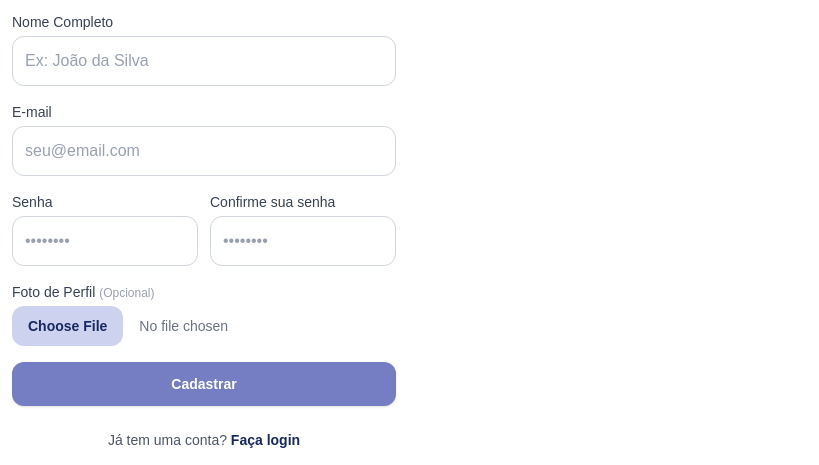
Test: [US01] RegisterAuth › Deve fechar o Toast de erro ao clicar no botão de fechar
The width and height of the screenshot is (819, 465).
// Gera erro de senhas divergentes para exibir o toast imediatamente no cliente
Type "Carlos Souza" into the field labelled "Nome Completo" at (204, 61), box [12,36,396,86]
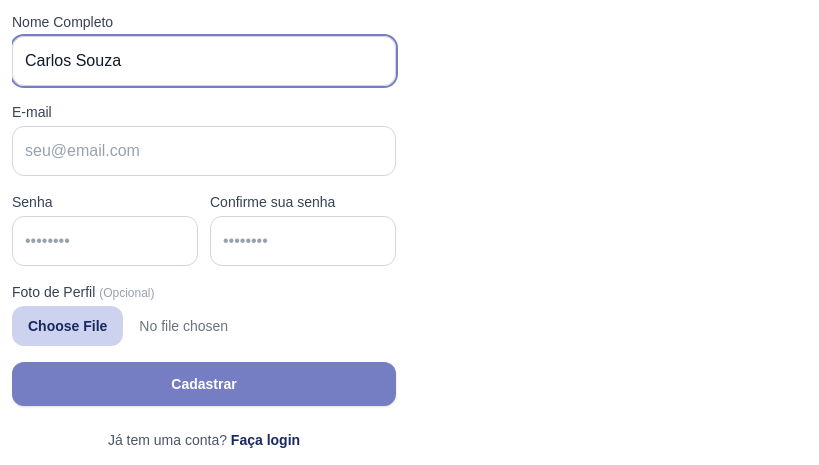
Type "carlos@uefs.br" into the field labelled "E-mail" at (204, 151), box [12,126,396,176]
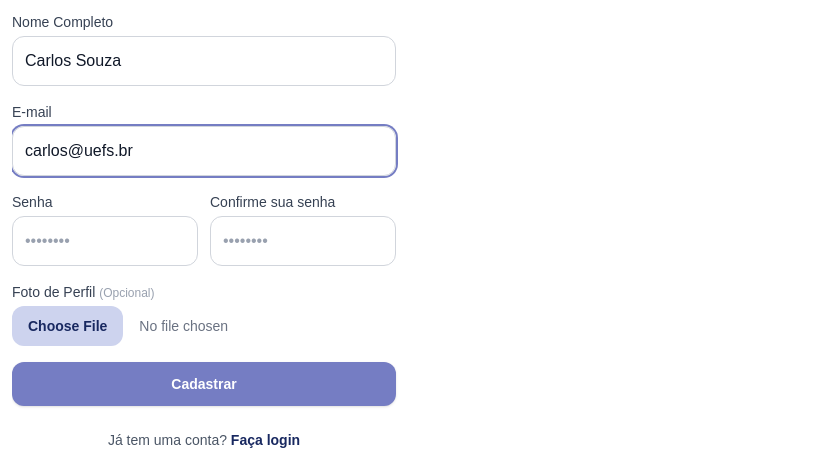
Type "Senha@123" into the password field labelled "Senha" at (105, 241), box [12,216,198,266]
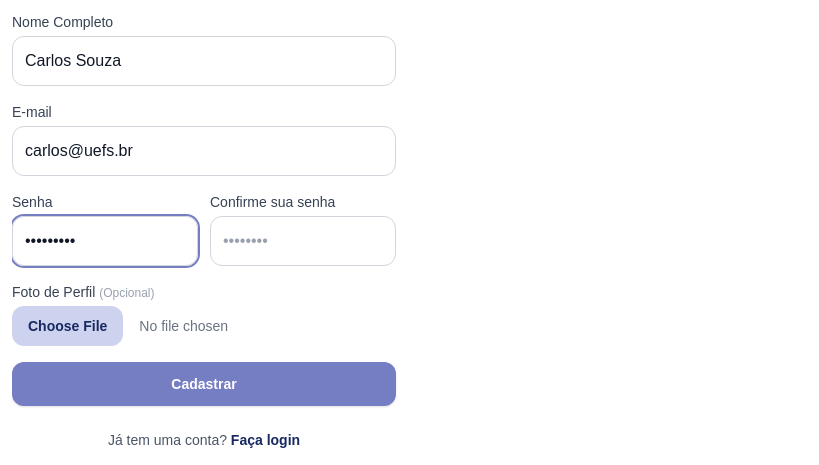
Type "SenhaDiferente@999" into the password field labelled "Confirme sua senha" at (303, 241), box [210,216,396,266]
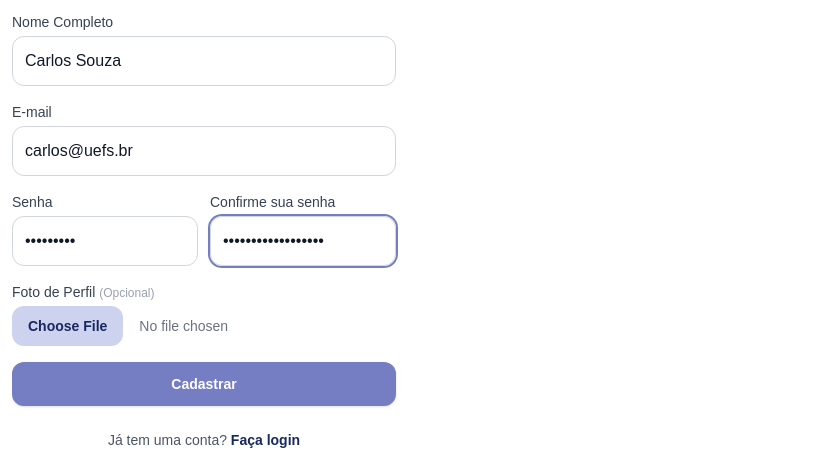
Click the button "Cadastrar" at (204, 384), box [12,362,396,406]
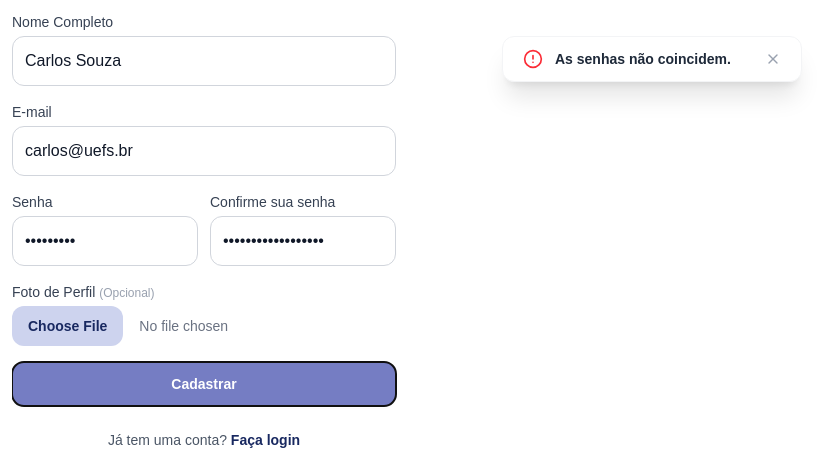
expect the text "As senhas não coincidem." is shown: met, box [555,49,753,69]
// Clica no botão de fechar do Toast (ícone X com aria-label)
Click the button named "fechar" at (773, 59), box [765,51,781,67]
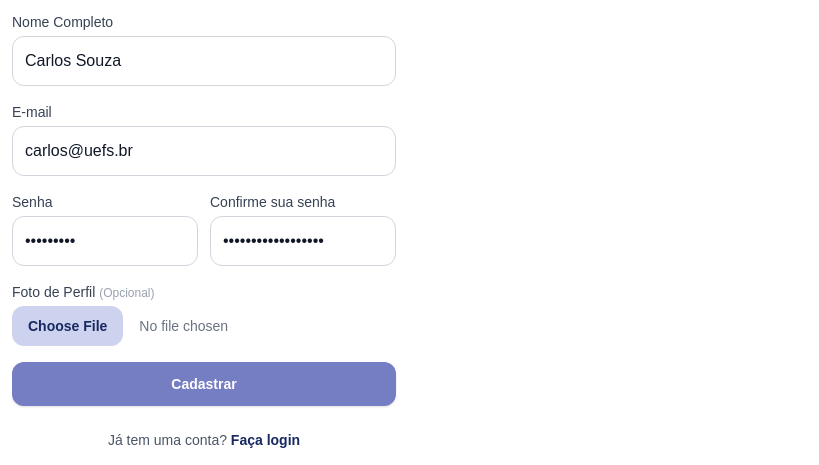
expect the text "As senhas não coincidem" is gone: met
